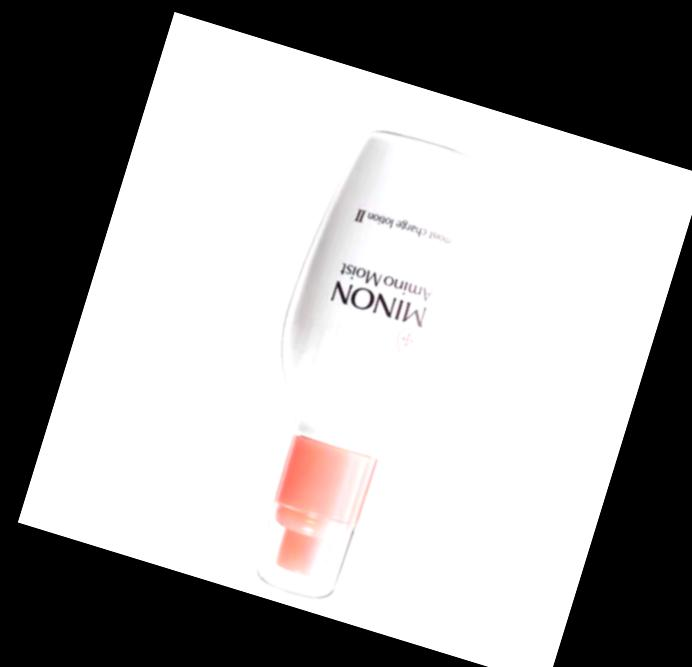cosmetic: (205, 113, 513, 623)
